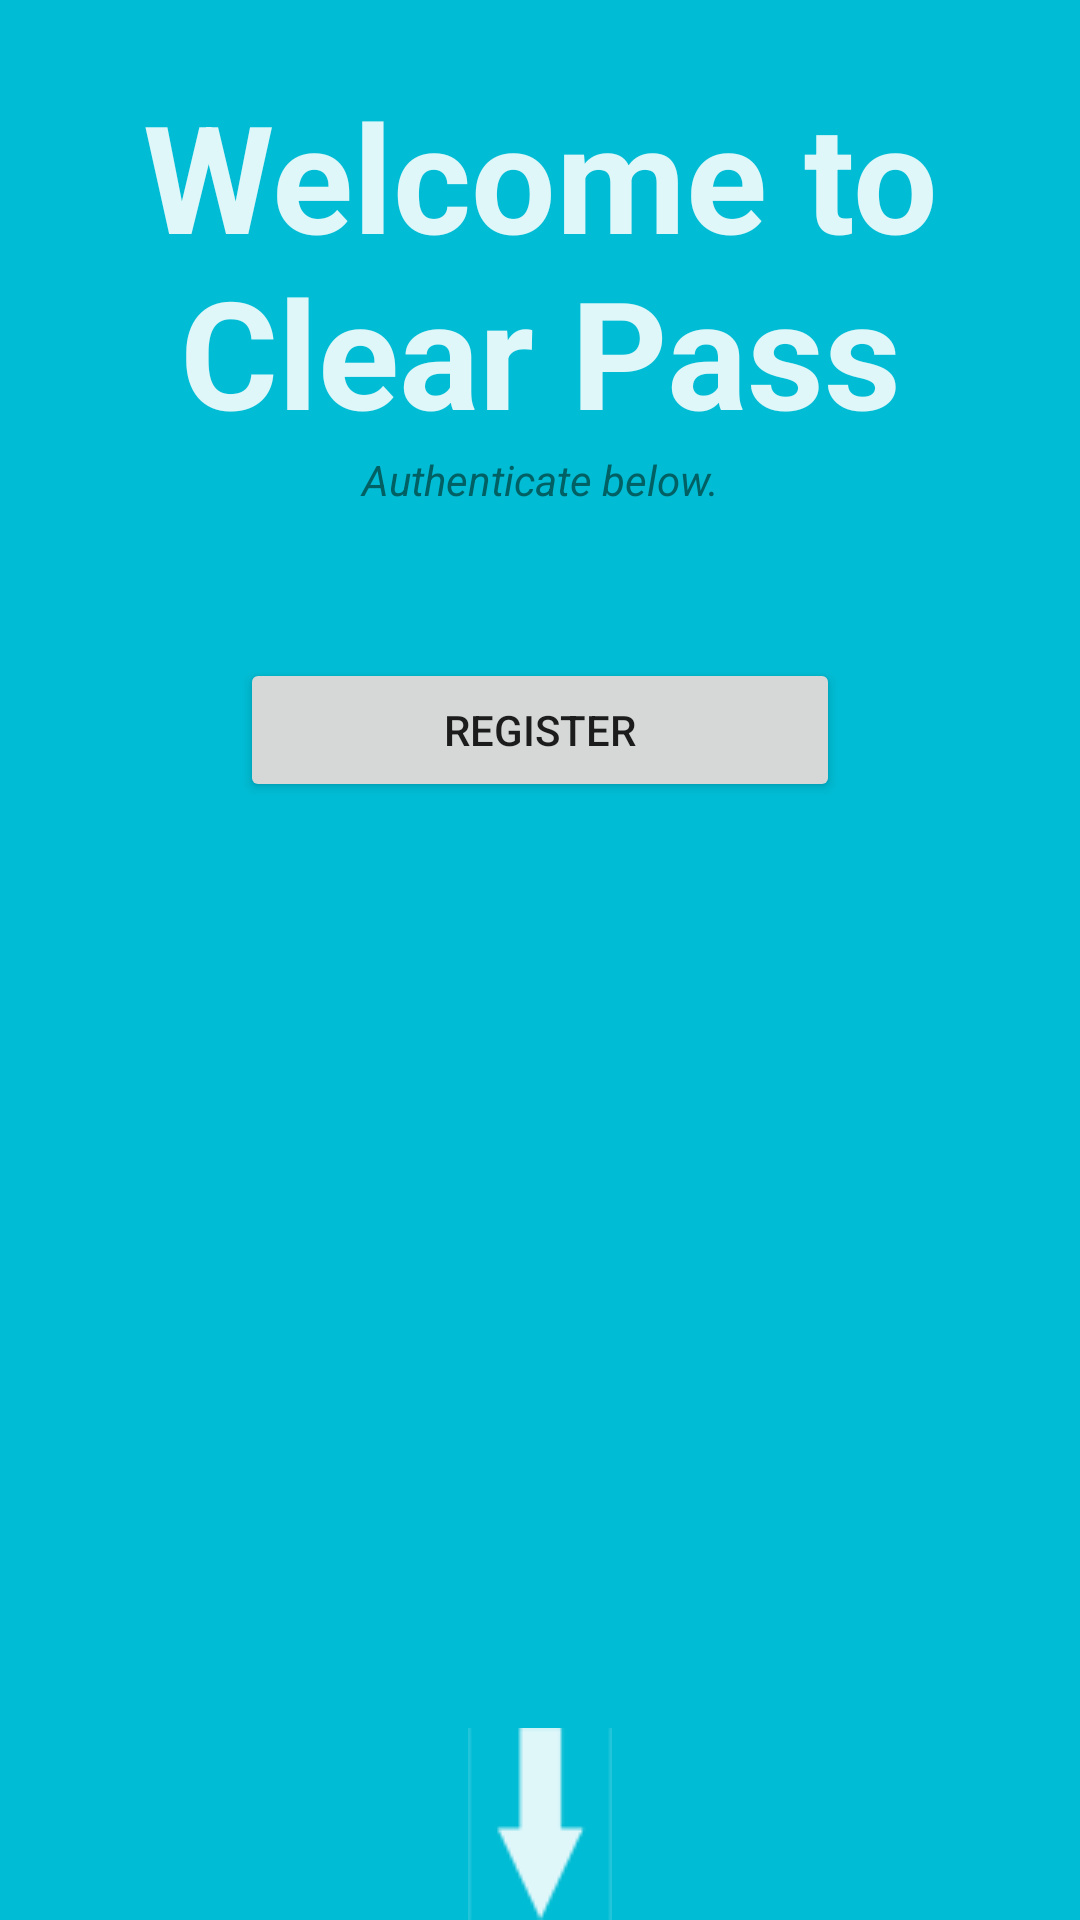

Screen size 1080×1920. Icon name, then its box in pixels as (x1, y1, x2, y2):
Down Arrow: (468, 1728, 612, 1920)
